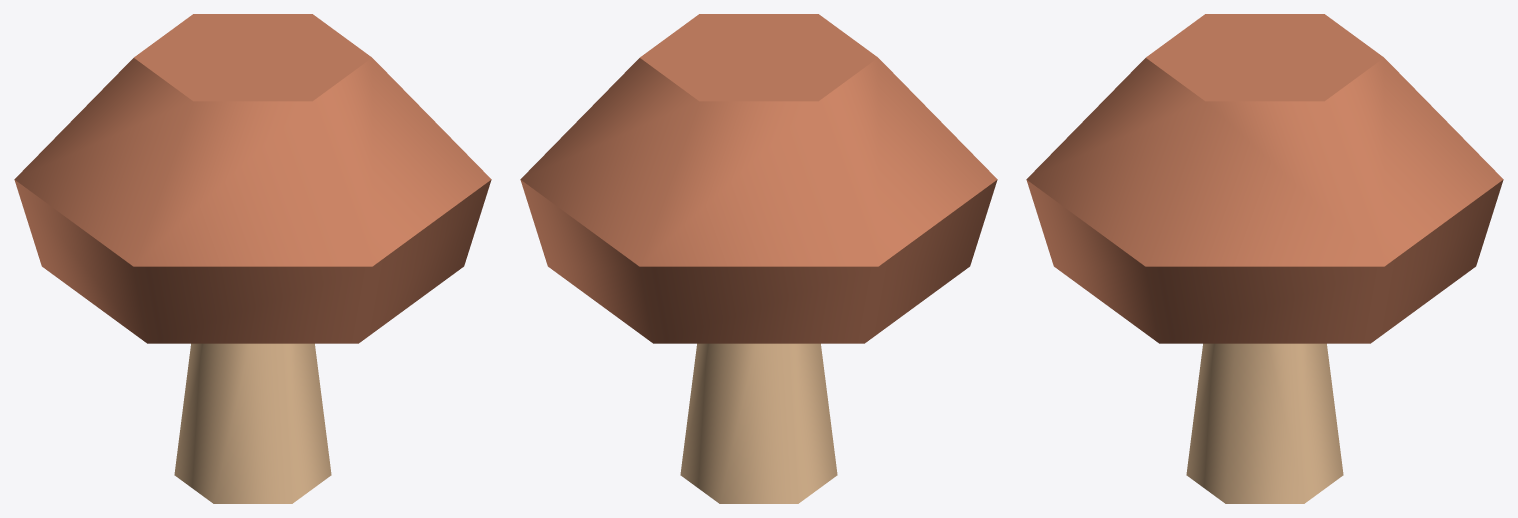
Rendered from mushroom.GLB.
3 renders of one model, left to right at view 1: azimuth 30°, elevation 25°; view 2: azimuth 150°, elevation 25°; view 3: azimuth 270°, elevation 25°, orthographic.
Parts seen in each view (by area): view 1: mushroom; view 2: mushroom; view 3: mushroom.
Part boxes in pixels (bbox=[...]): mushroom: bbox=[14, 14, 491, 503]; mushroom: bbox=[520, 14, 997, 503]; mushroom: bbox=[1026, 14, 1503, 503].
Bounding box in the file's own units: 0.1249 × 0.1392 × 0.1442.
